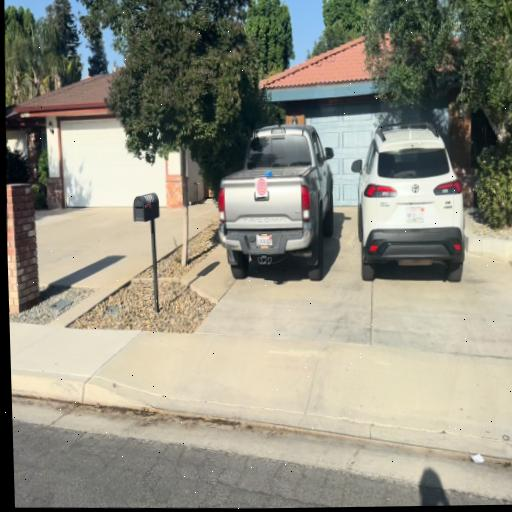bullseye: (256, 178, 267, 197)
